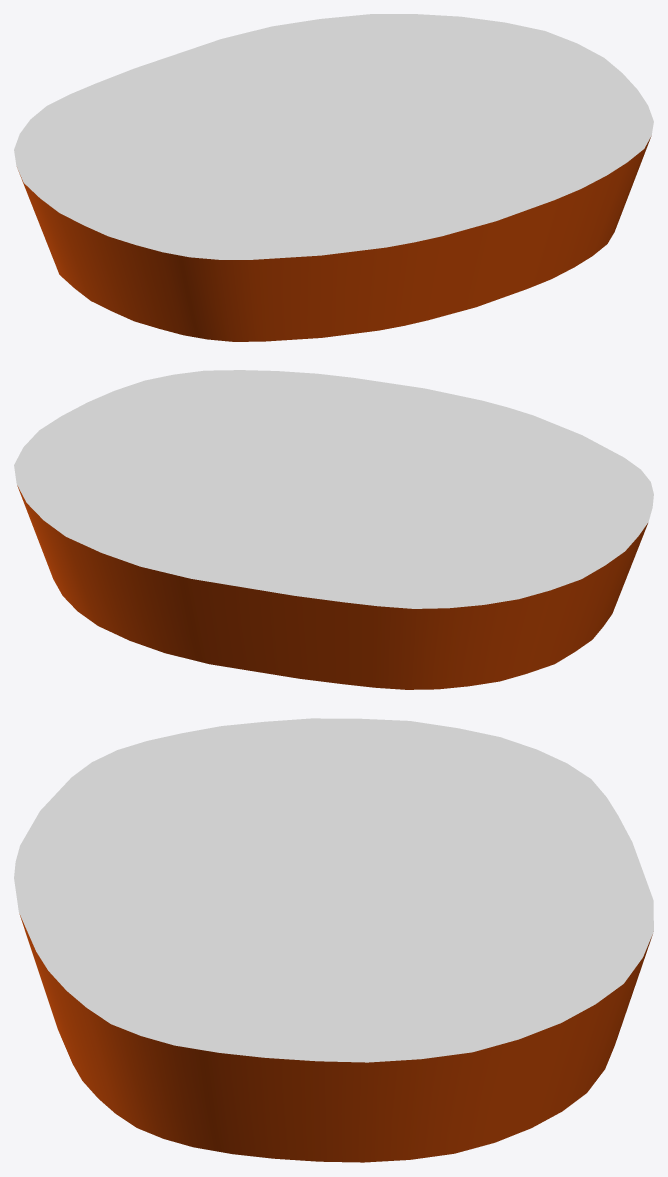
File: Pool-Lake.fbx
The picture shows the model from 3 angles, top to bottom: view 1: azimuth 30°, elevation 25°; view 2: azimuth 150°, elevation 25°; view 3: azimuth 270°, elevation 25°; orthographic projection. The views are drawn at different scales.
Parts seen in each view (by area): view 1: Hole-Lake; view 2: Hole-Lake; view 3: Hole-Lake.
Part boxes in pixels (x1,y1,x2,y2): Hole-Lake: (14,14,653,341); Hole-Lake: (14,370,653,689); Hole-Lake: (14,718,653,1162).
Size of the model in its own units: 12.1 by 2.5 by 15.39.
